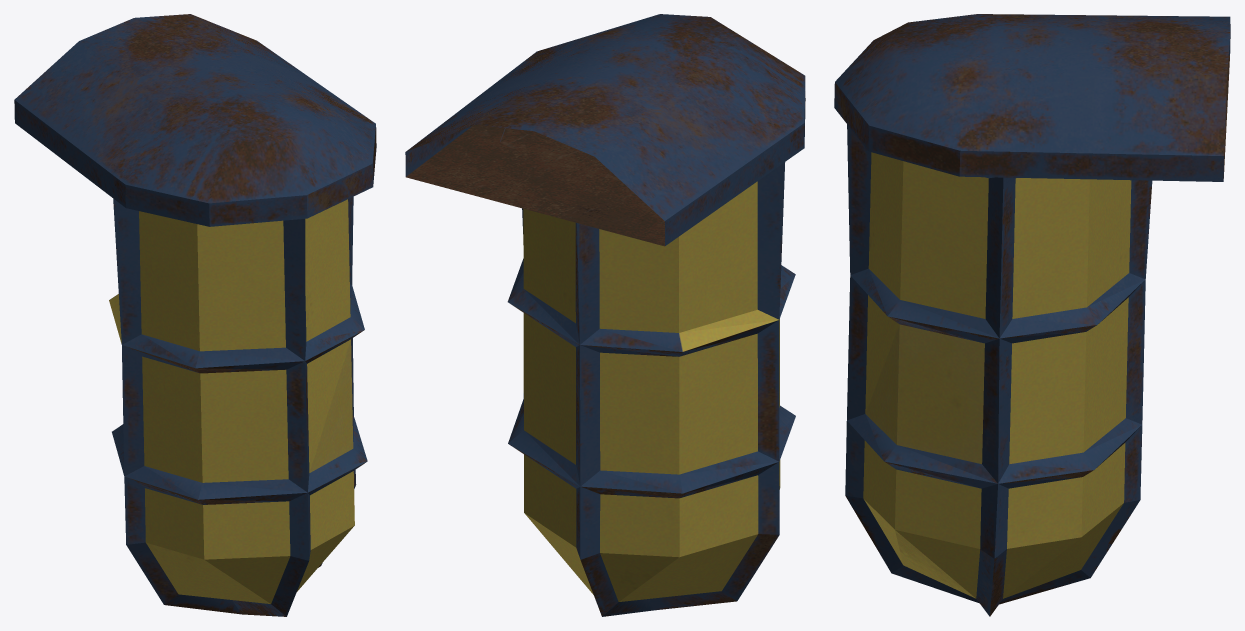
The picture shows the model from 3 angles, left to right: view 1: azimuth 30°, elevation 25°; view 2: azimuth 150°, elevation 25°; view 3: azimuth 270°, elevation 25°; orthographic projection. The views are drawn at different scales.
Parts seen in each view (by area): view 1: DrawCall_0; view 2: DrawCall_0; view 3: DrawCall_0.
Boxes of the visible parts, x1,y1,x2,y2 form: DrawCall_0: (14,14,376,616); DrawCall_0: (405,14,805,616); DrawCall_0: (834,14,1230,616).
Bounding box in the file's own units: 1.91 × 3.82 × 2.38.
1 material, 1 textured.
